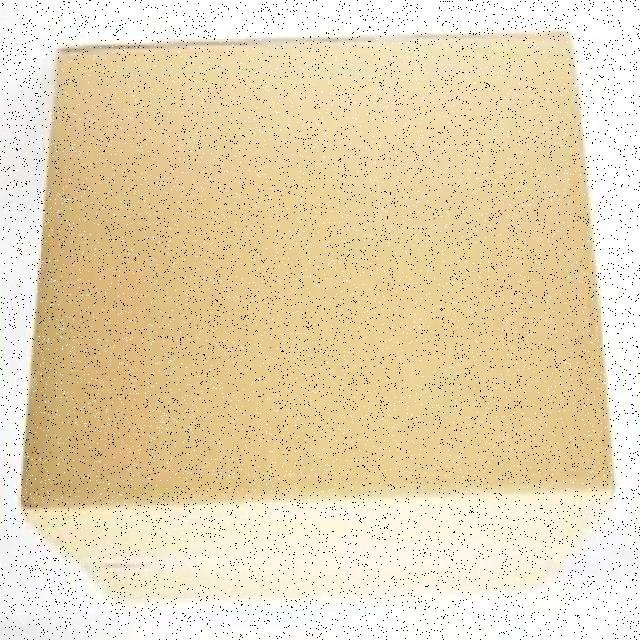normal: (11, 20, 622, 606)
